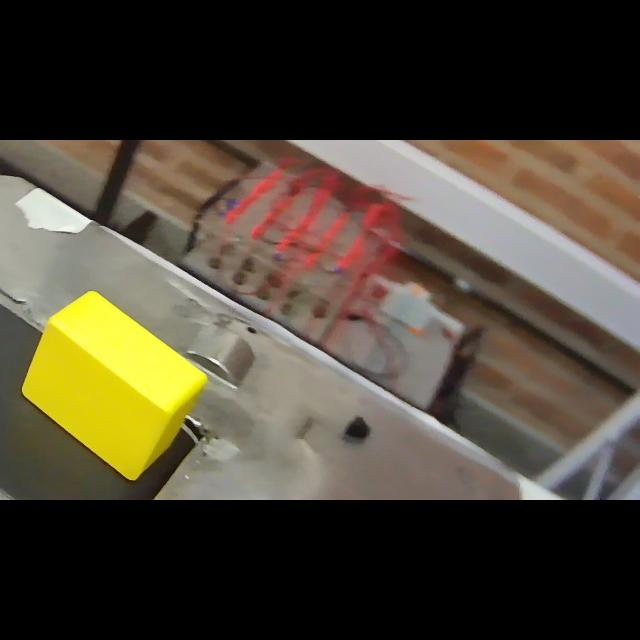yellowBox: (13, 284, 213, 488)
